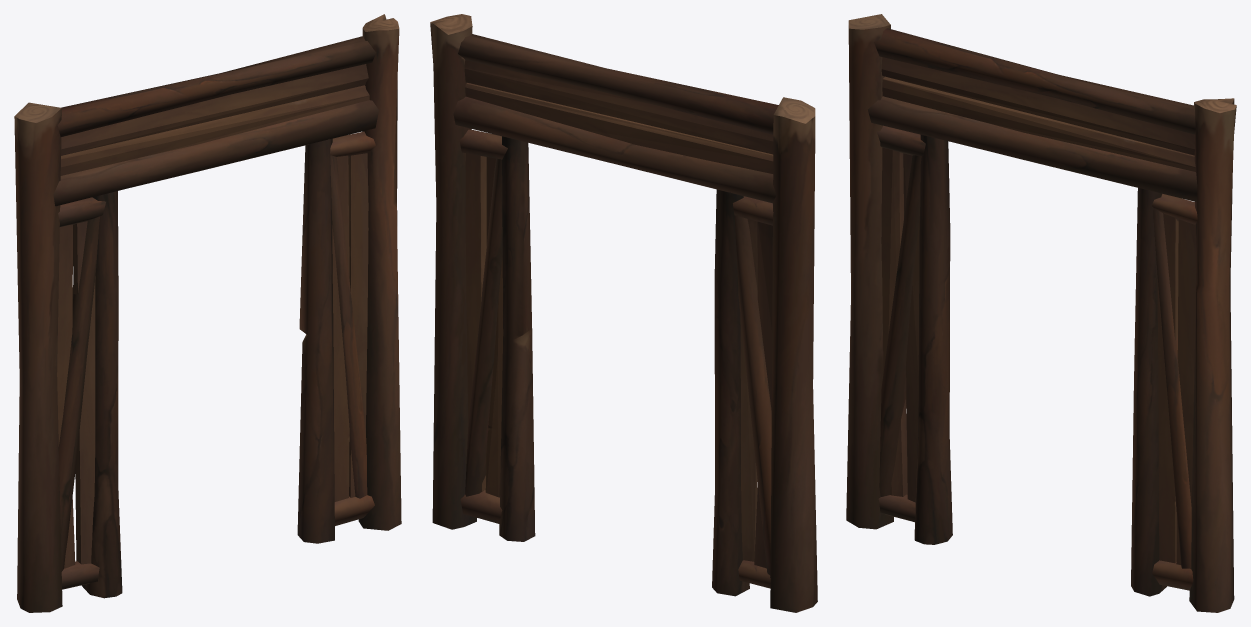
Rendered from Door01_w.FBX.
The picture shows the model from 3 angles, left to right: view 1: azimuth 30°, elevation 25°; view 2: azimuth 150°, elevation 25°; view 3: azimuth 330°, elevation 25°; orthographic projection.
Parts seen in each view (by area): view 1: Object164; view 2: Object164; view 3: Object164.
Part boxes in pixels (x1,y1,x2,y2): Object164: (14, 14, 401, 612); Object164: (430, 14, 817, 612); Object164: (846, 14, 1236, 612).
Size of the model in its own units: 1.99 by 2.5 by 0.219.
